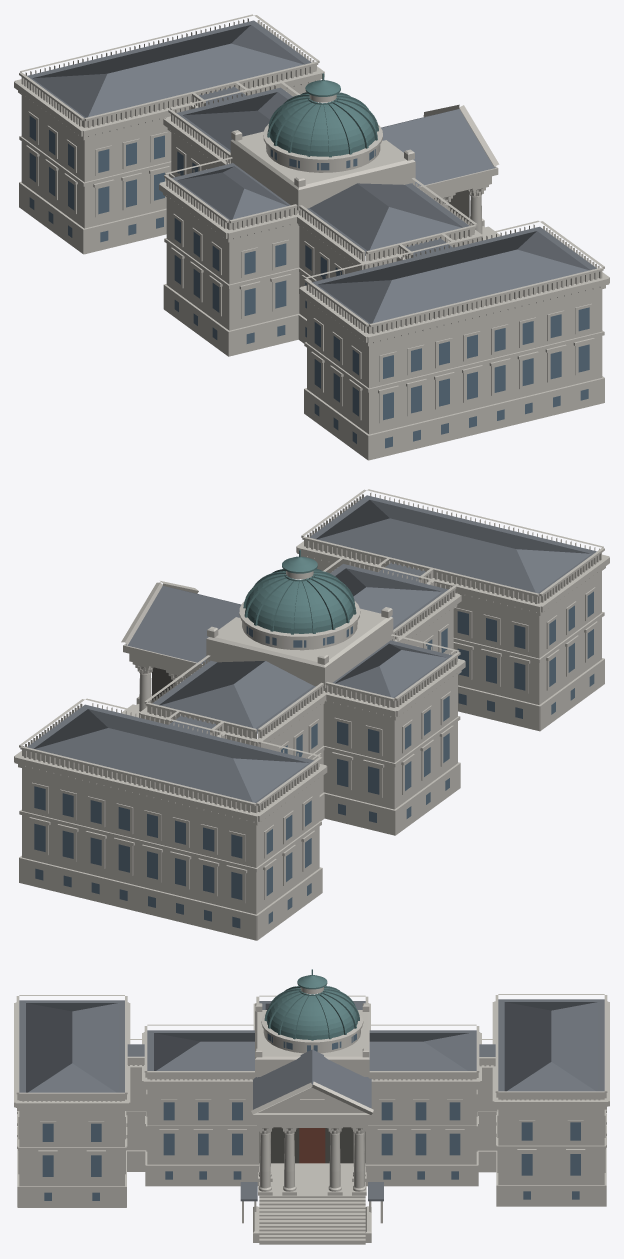
Rendered from osaka-nakanoshima-library.detail.glb.
3 views of the same model, one above another, from view 1: azimuth 30°, elevation 25°; view 2: azimuth 150°, elevation 25°; view 3: azimuth 270°, elevation 25° (orthographic). The views are drawn at different scales.
Visible parts, largest first — view 1: Osaka Prefectural Nakanoshima Library; view 2: Osaka Prefectural Nakanoshima Library; view 3: Osaka Prefectural Nakanoshima Library.
Boxes of the visible parts, x1,y1,x2,y2 form: Osaka Prefectural Nakanoshima Library: [14, 14, 609, 460]; Osaka Prefectural Nakanoshima Library: [14, 489, 609, 940]; Osaka Prefectural Nakanoshima Library: [14, 969, 609, 1244].
Size of the model in its own units: 42.1 by 27.7 by 77.3.
